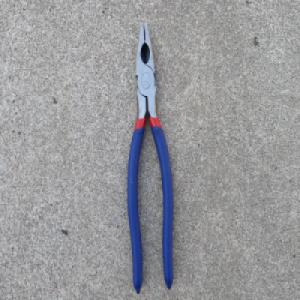Pliers: (126, 20, 174, 295)
